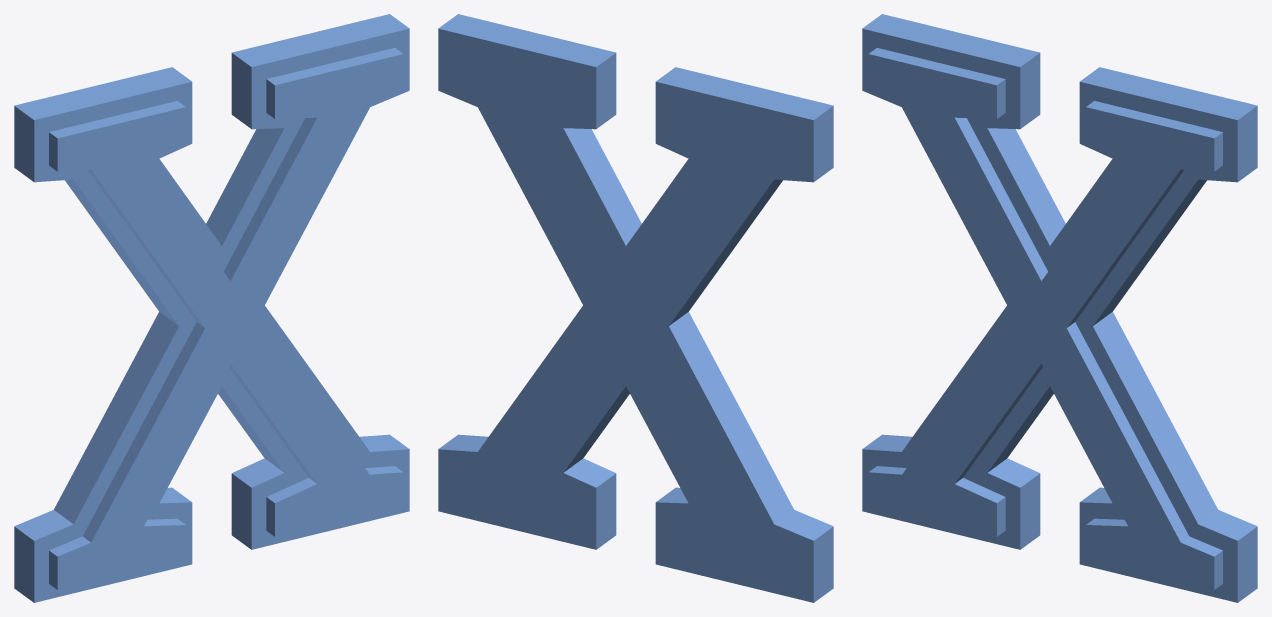
Rendered from uploads_files_2164797_X1.FBX.
3 renders of one model, left to right at view 1: azimuth 30°, elevation 25°; view 2: azimuth 150°, elevation 25°; view 3: azimuth 330°, elevation 25°, orthographic.
Parts seen in each view (by area): view 1: X; view 2: X; view 3: X.
Boxes of the visible parts, <box> form: X: <box>14,14,409,602</box>; X: <box>438,14,833,602</box>; X: <box>862,14,1257,602</box>.
Bounding box in the file's own units: 3.8 × 4.67 × 0.5.
